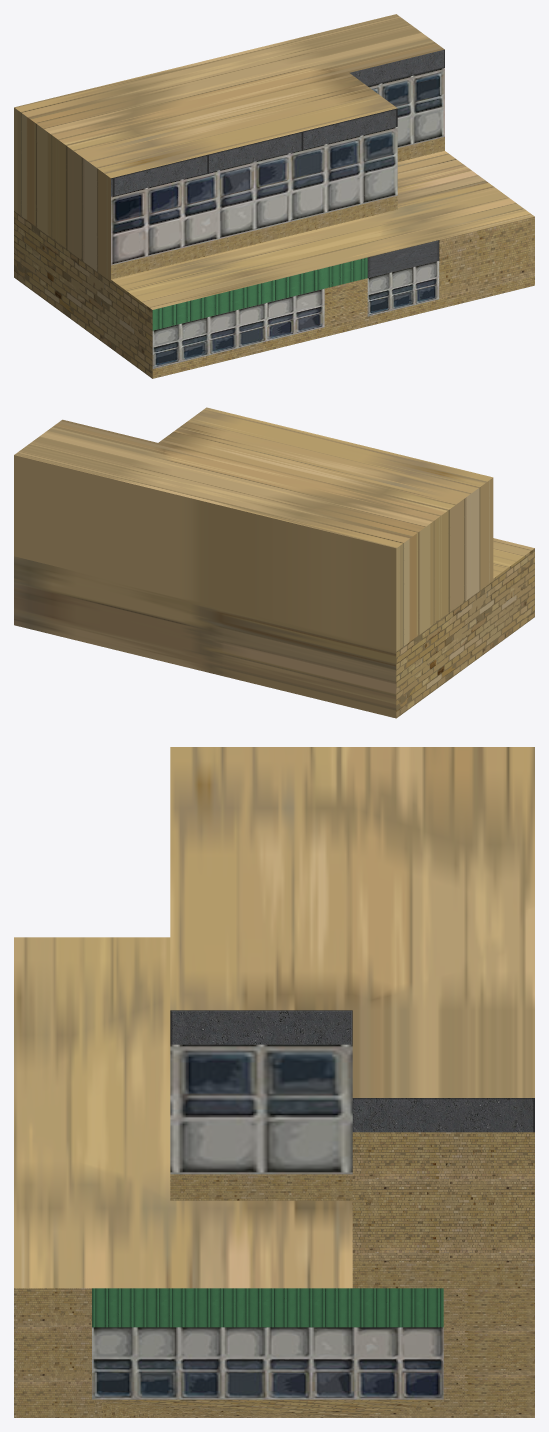
File: building.fbx
3 renders of one model, top to bottom at view 1: azimuth 30°, elevation 25°; view 2: azimuth 150°, elevation 25°; view 3: azimuth 270°, elevation 25°, orthographic. The views are drawn at different scales.
Visible parts, largest first — view 1: Building_Left_Low; view 2: Building_Left_Low; view 3: Building_Left_Low.
Part boxes in pixels (x1=…): Building_Left_Low: x1=14, y1=14, x2=534, y2=378; Building_Left_Low: x1=14, y1=407, x2=534, y2=718; Building_Left_Low: x1=14, y1=747, x2=534, y2=1417.
Bounding box in the file's own units: 81.28 × 34.55 × 51.
Materials: 4 (4 with a texture image).
